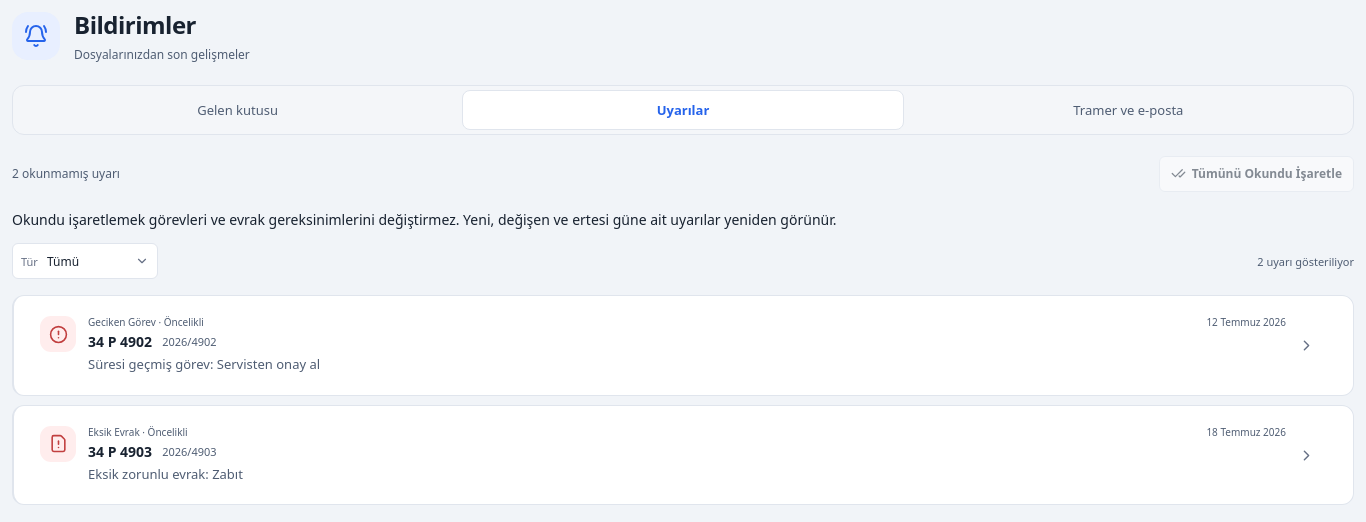
Test case: NotificationsPage gerçek operasyonel uyarılar › tür filtresi yalnız seçilen uyarı türünü gösterir
The image size is (1366, 522).
Check: the text "Süresi geçmiş görev: Servisten onay al" is shown, box top-left (88, 355), bottom-right (320, 373)
Select "Eksik Evrak" in the dropdown named "Uyarı türü" at (97, 261), box top-left (38, 244), bottom-right (157, 278)
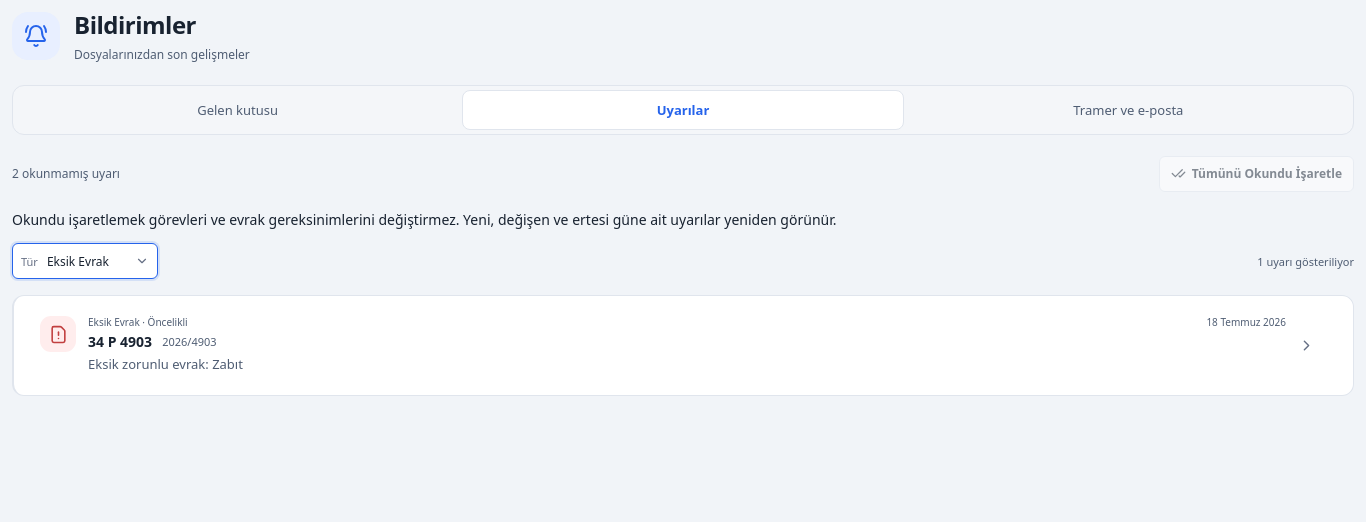
Check: the text "Eksik zorunlu evrak: Zabıt" is shown, box top-left (88, 355), bottom-right (243, 373)
Check: the button "Süresi geçmiş görev: Servisten onay al" is gone
Check: the text "1 uyarı gösteriliyor" is shown, box top-left (1257, 254), bottom-right (1354, 268)
